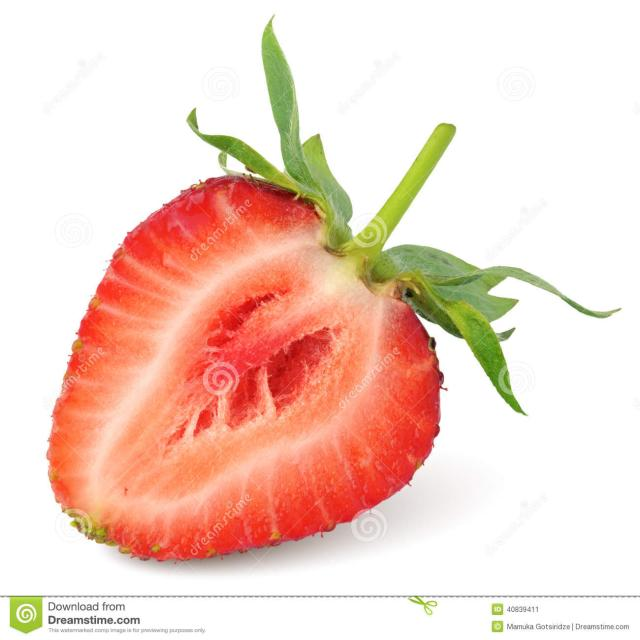strawberry: (36, 136, 522, 572)
